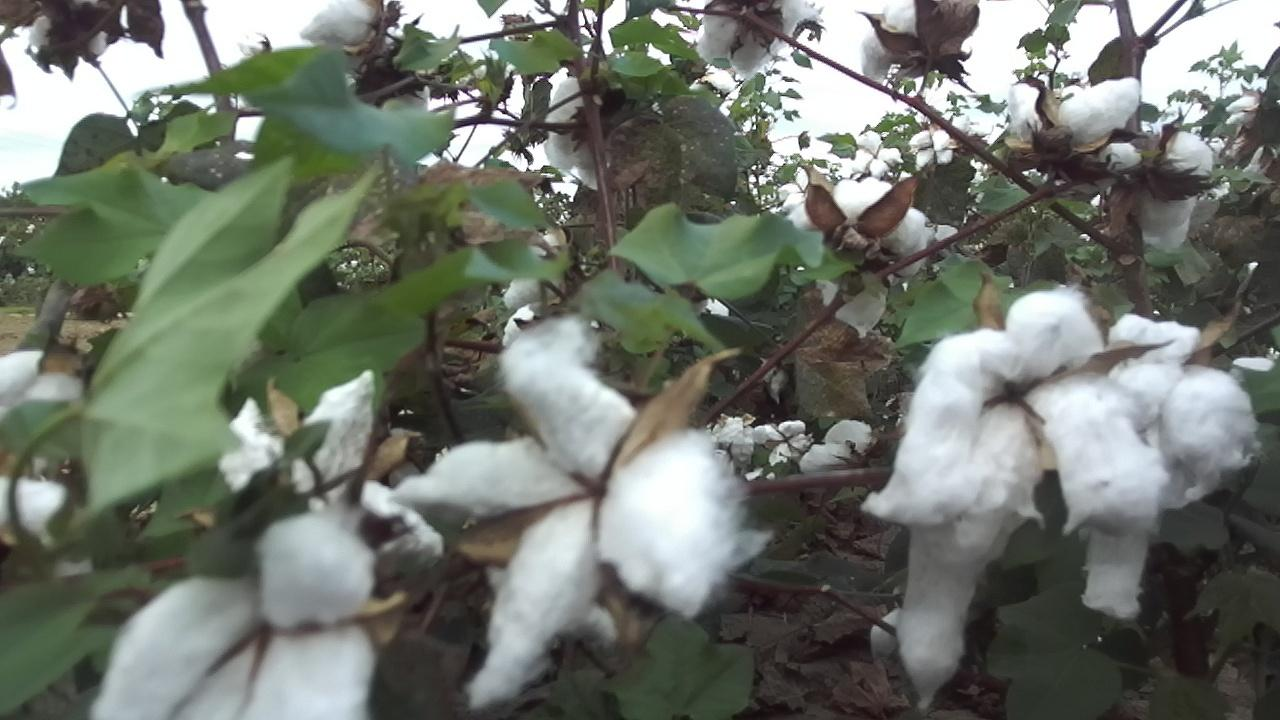cotton_ready: (391, 312, 745, 711), (862, 287, 1164, 710), (93, 512, 379, 720), (1081, 315, 1264, 619), (219, 372, 440, 566), (484, 532, 775, 648), (790, 178, 956, 338), (1090, 132, 1217, 258), (1010, 77, 1140, 142), (503, 225, 572, 345), (700, 0, 813, 72), (547, 77, 612, 193), (0, 349, 84, 421), (862, 0, 933, 84), (299, 0, 382, 64), (0, 477, 65, 551), (31, 0, 109, 57), (802, 419, 872, 481), (705, 419, 757, 478), (872, 614, 913, 686), (760, 420, 807, 465)
